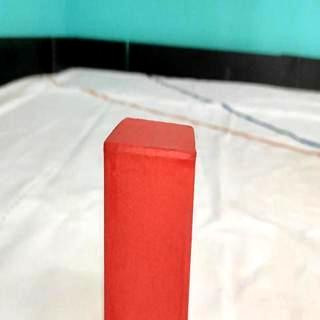redbox: (102, 116, 196, 320)
